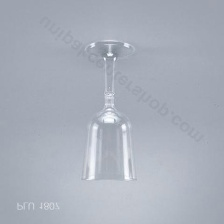glass: (78, 29, 149, 186)
